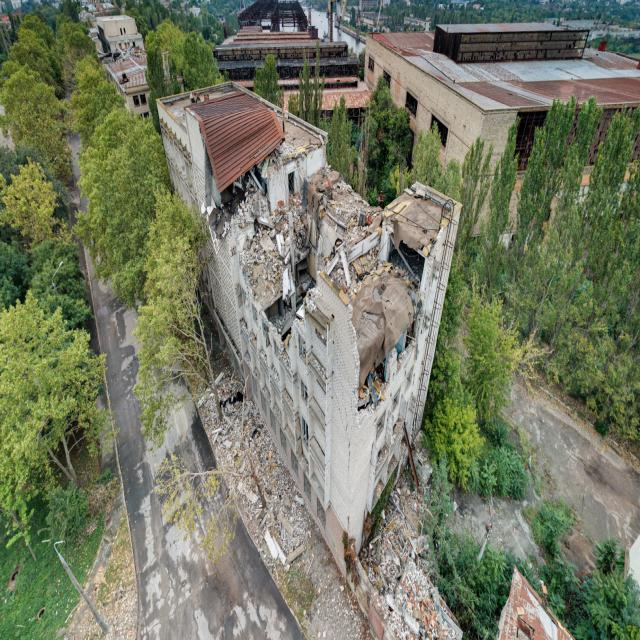broken_window: (430, 113, 448, 151), (405, 89, 418, 117)
building: (156, 79, 464, 577), (363, 22, 640, 248)
damaged_roof: (184, 87, 286, 196)
